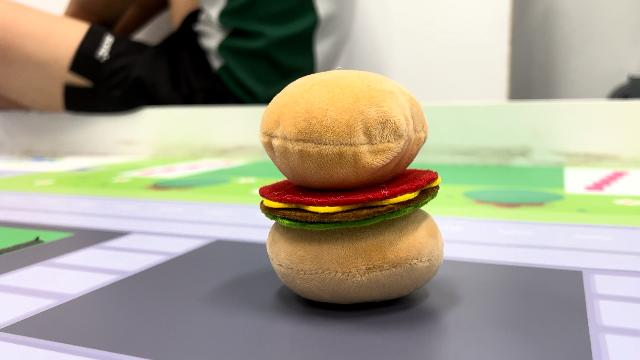burger: (253, 66, 449, 307)
